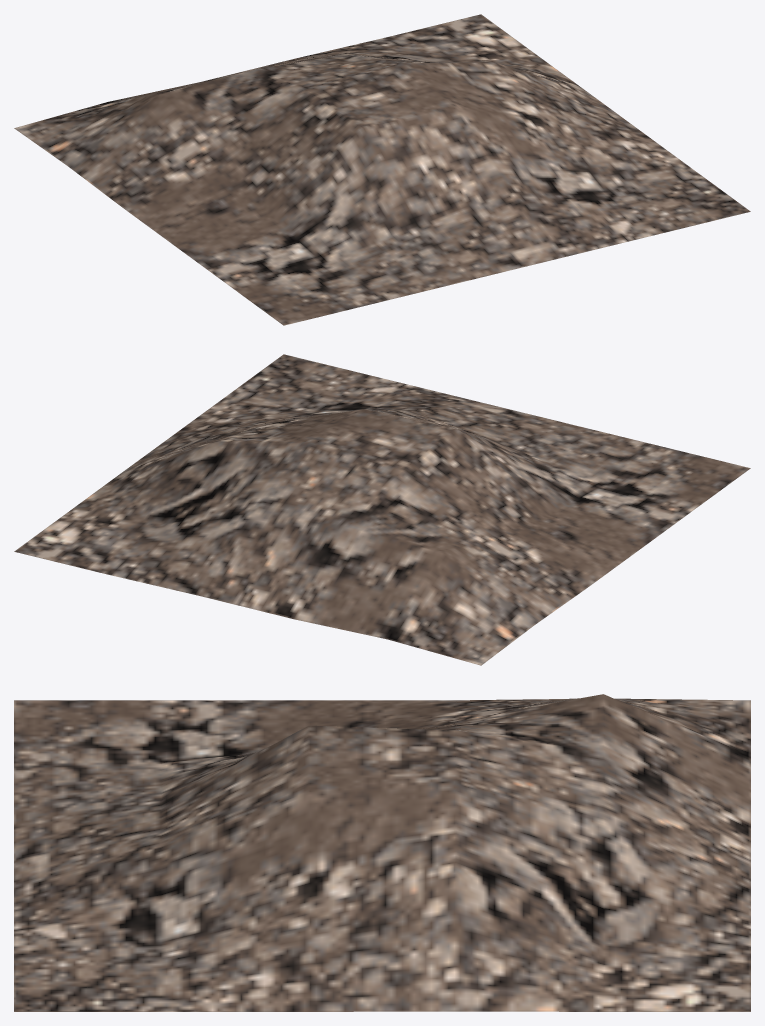
File: rubble1.fbx
The picture shows the model from 3 angles, top to bottom: view 1: azimuth 30°, elevation 25°; view 2: azimuth 150°, elevation 25°; view 3: azimuth 270°, elevation 25°; orthographic projection. The views are drawn at different scales.
Visible parts, largest first — view 1: rubble1; view 2: rubble1; view 3: rubble1.
Part boxes in pixels (bbox=[...]): rubble1: bbox=[14, 14, 750, 325]; rubble1: bbox=[14, 354, 750, 665]; rubble1: bbox=[14, 694, 750, 1011].
Size of the model in its own units: 600 by 600 by 92.13.
Materials: 1 (1 with a texture image).
